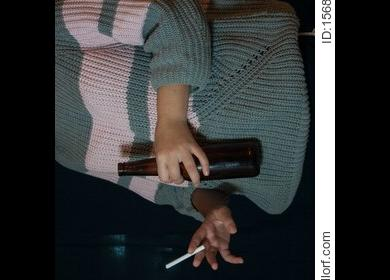Cigarette: (166, 244, 206, 268)
